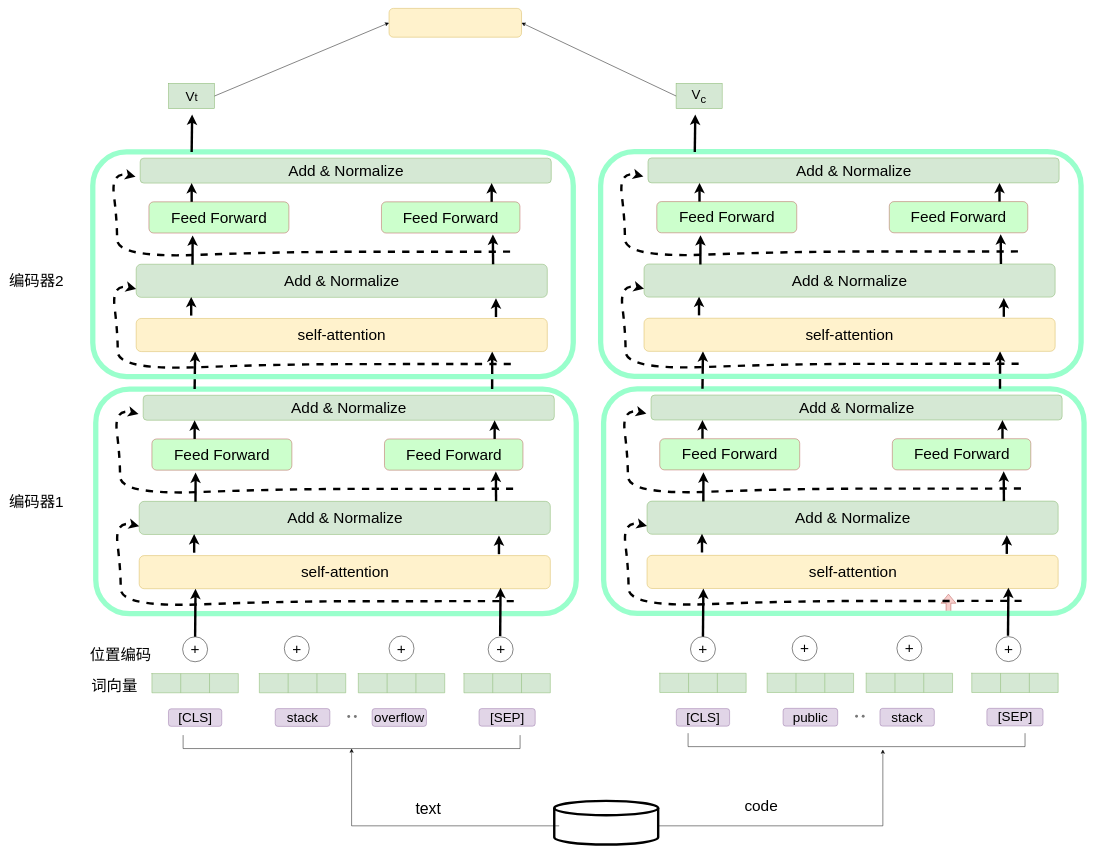
The diagram is 1095 pixels wide and 854 high, and some of its shapes have lost their labels. The shapes that lost their labels are listed below. From the top down, each one's centre as x and y in pixels, then its label:
the point at 455,22: similarity=cos(V t ,Vc )
the point at 606,822: MIX dataset
